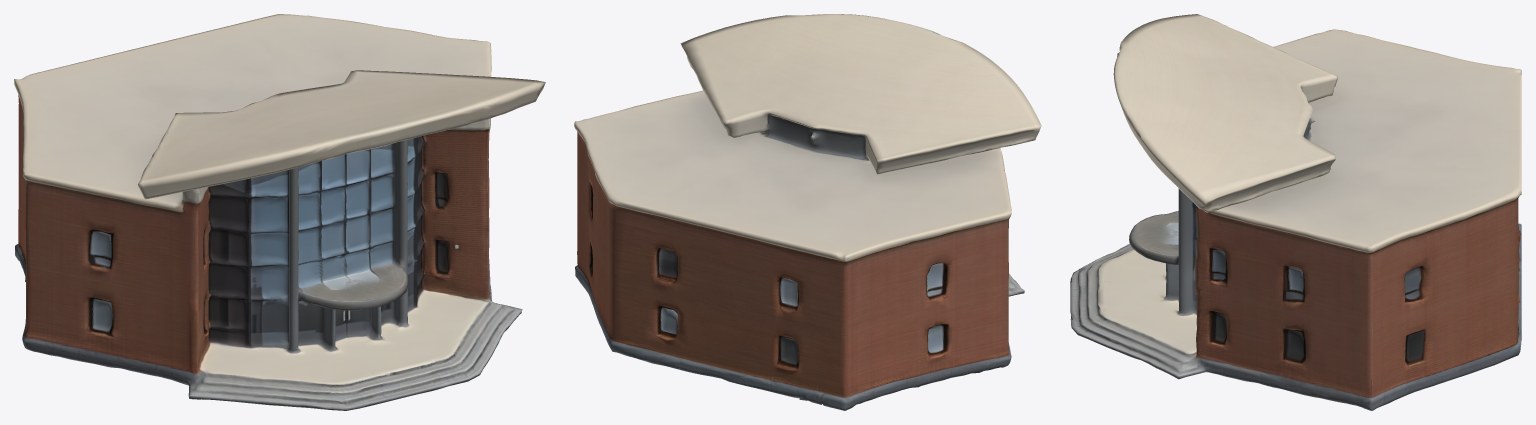
Rendered from campus_theater_foyer.glb.
3 renders of one model, left to right at view 1: azimuth 30°, elevation 25°; view 2: azimuth 150°, elevation 25°; view 3: azimuth 270°, elevation 25°, orthographic. The views are drawn at different scales.
Visible parts, largest first — view 1: campus_theater_foyer; view 2: campus_theater_foyer; view 3: campus_theater_foyer.
Boxes of the visible parts, x1=… form: campus_theater_foyer: x1=14, y1=14, x2=545, y2=410; campus_theater_foyer: x1=574, y1=14, x2=1041, y2=410; campus_theater_foyer: x1=1070, y1=14, x2=1521, y2=410.
Size of the model in its own units: 28 by 13.79 by 24.38.
1 material, 1 textured.
